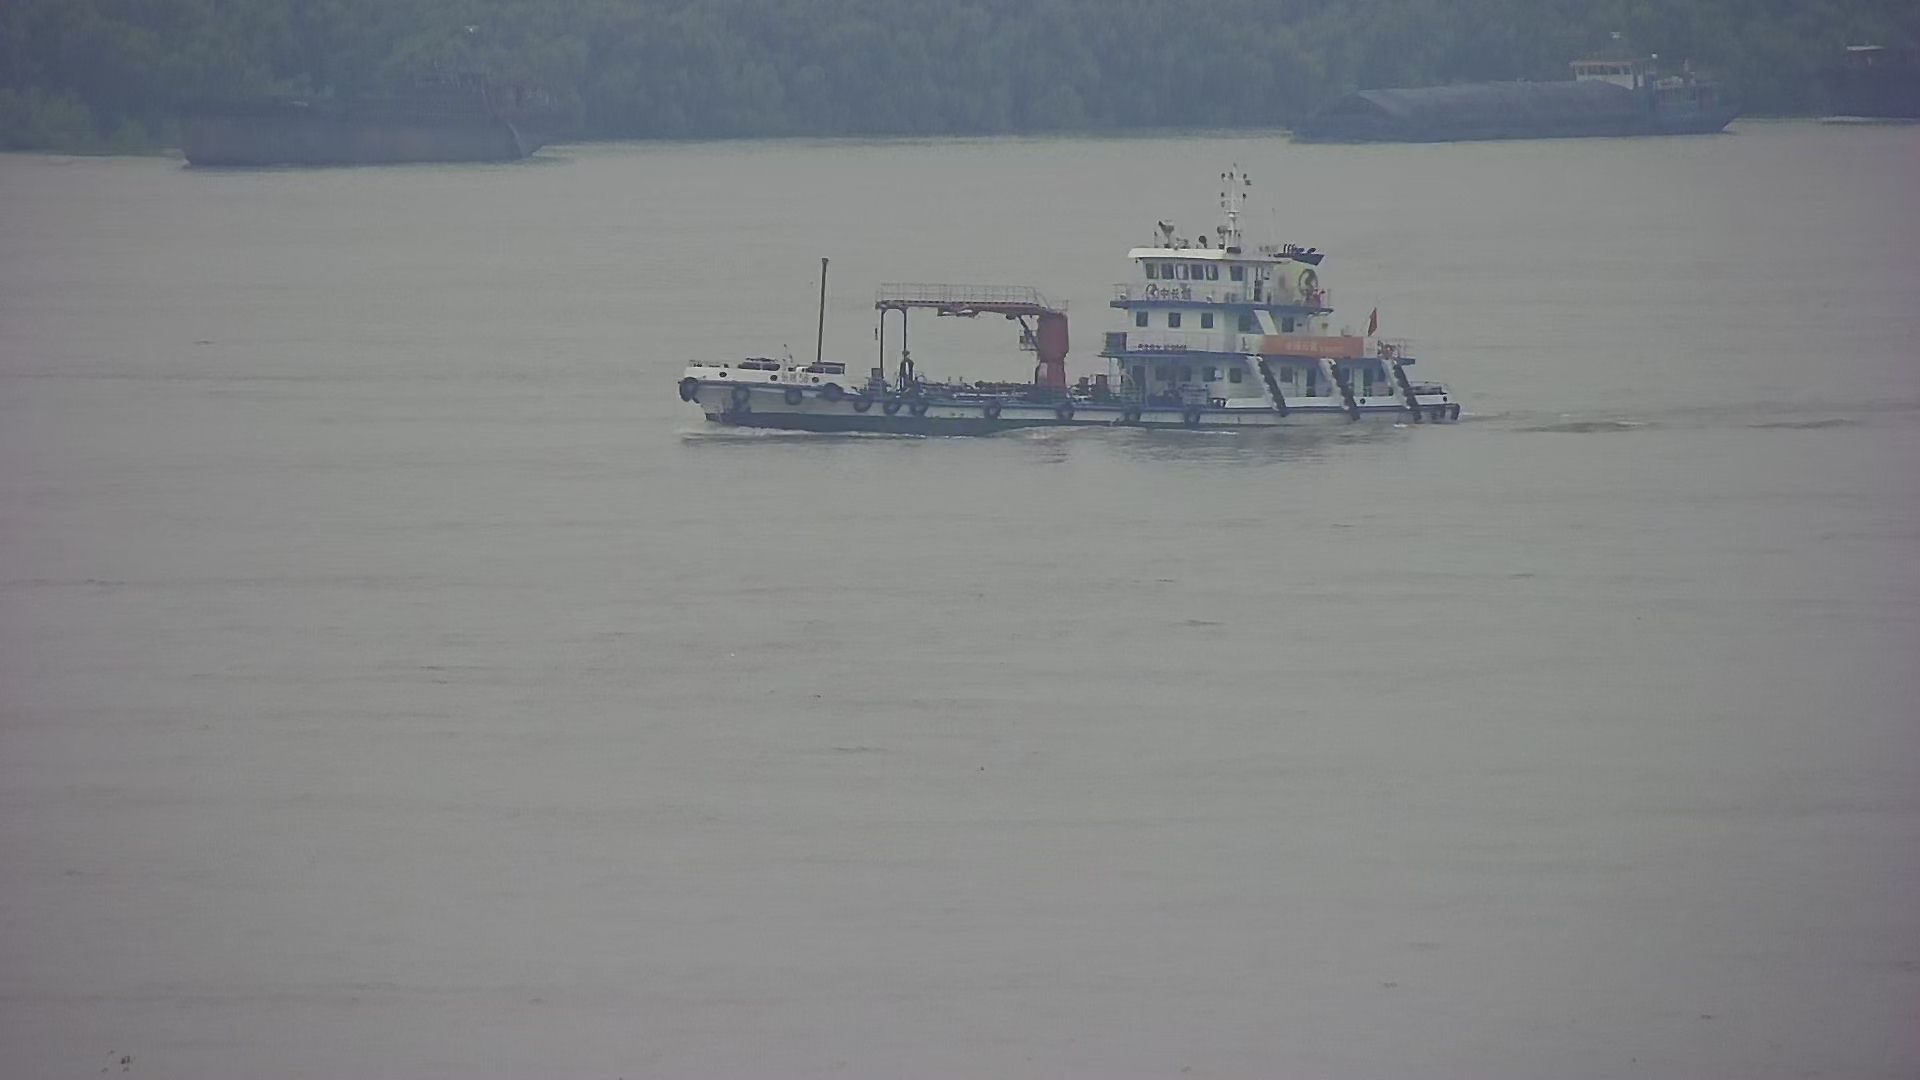ship: (684, 193, 1461, 433), (1280, 51, 1741, 141), (160, 62, 564, 164), (1811, 40, 1920, 117)
